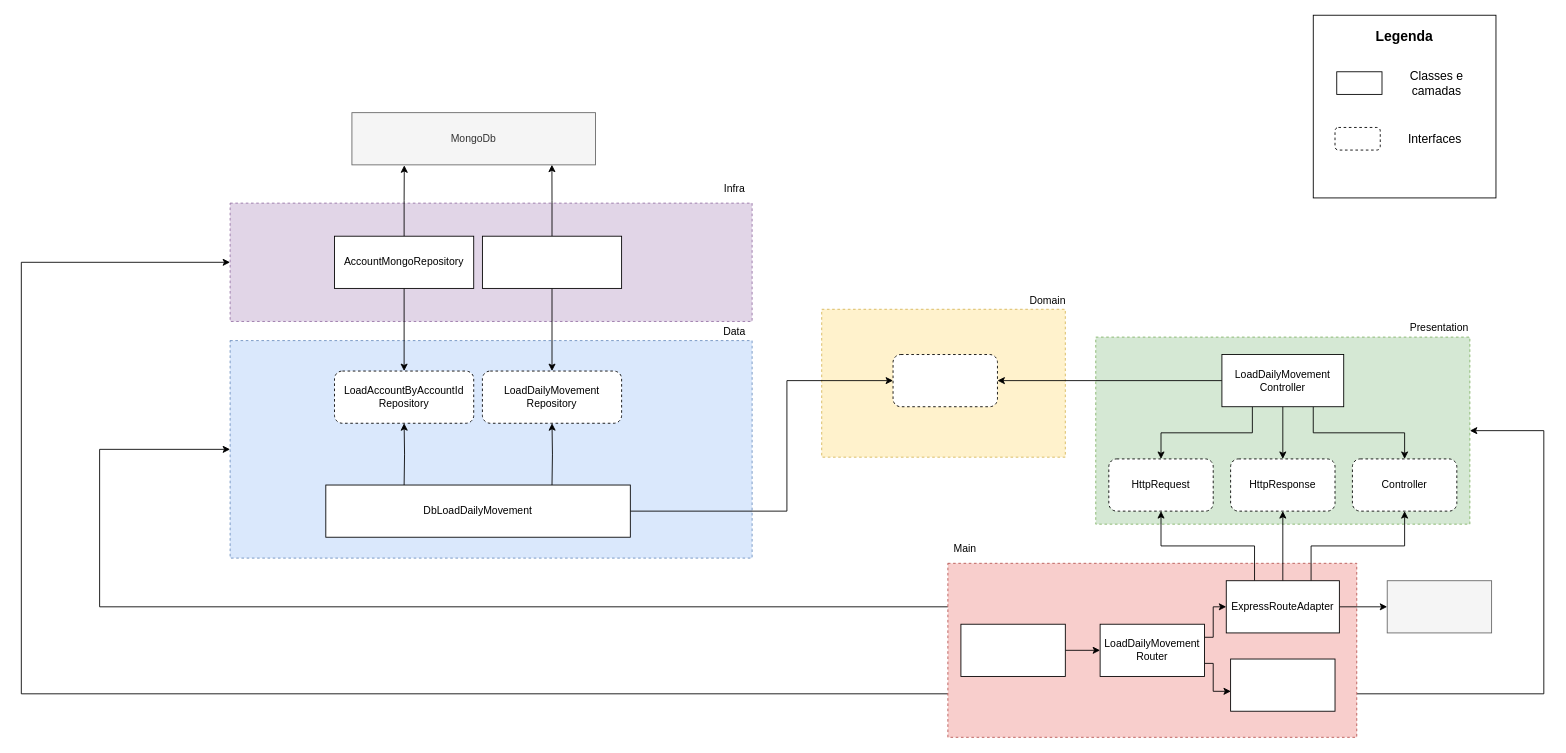
Image size: 1566x753. Some labels were removed from this diagram. The shapes that lost their labels are listed below. From the top down, each one's centre as x and y in pixels, then its label:
(552,261): MovementMongoRepository
(944,380): LoadDailyMovement
(1439,606): Express
(1012,649): App
(1282,684): LoadDailyMovement Factory
